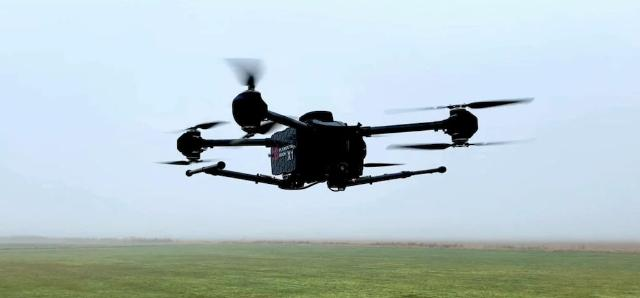drone: (164, 60, 530, 192)
